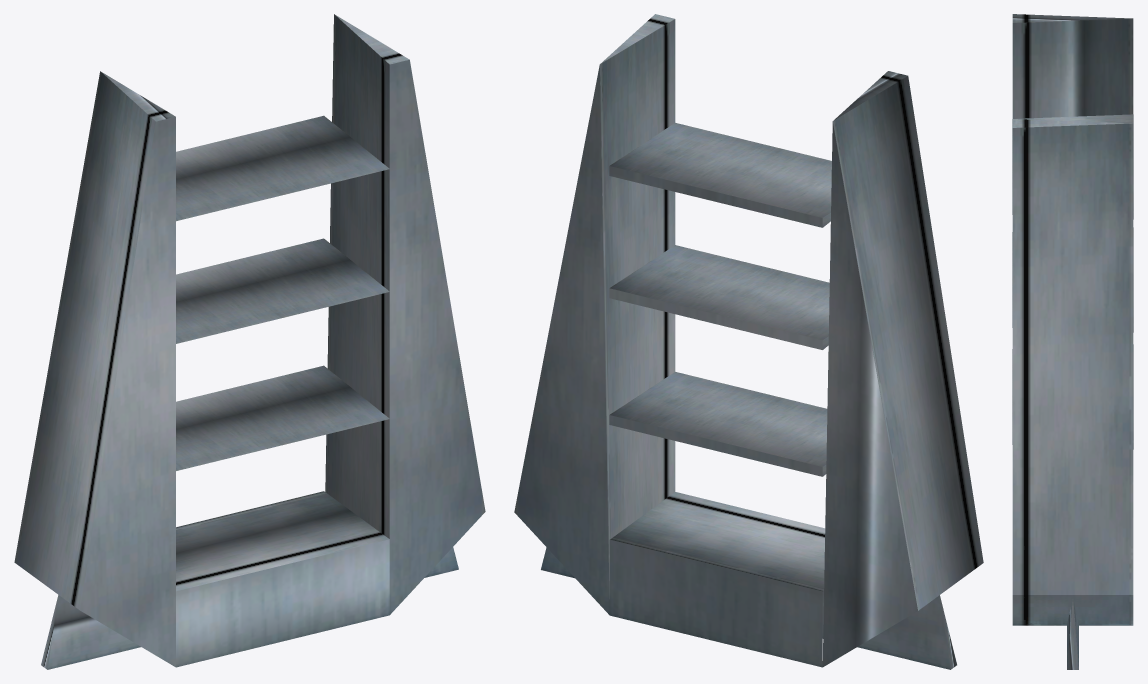
Rendered from frn_all_tech_bookcase_s01_l2.fbx.
The picture shows the model from 3 angles, left to right: view 1: azimuth 30°, elevation 25°; view 2: azimuth 150°, elevation 25°; view 3: azimuth 270°, elevation 25°; orthographic projection. The views are drawn at different scales.
Parts seen in each view (by area): view 1: mesh_node; view 2: mesh_node; view 3: mesh_node.
Boxes of the visible parts, box(x1,y1,x2,y2) form: mesh_node: box(14, 14, 485, 669); mesh_node: box(514, 14, 983, 669); mesh_node: box(1012, 14, 1133, 669).
Bounding box in the file's own units: 1.4 × 1.8 × 0.3909.
